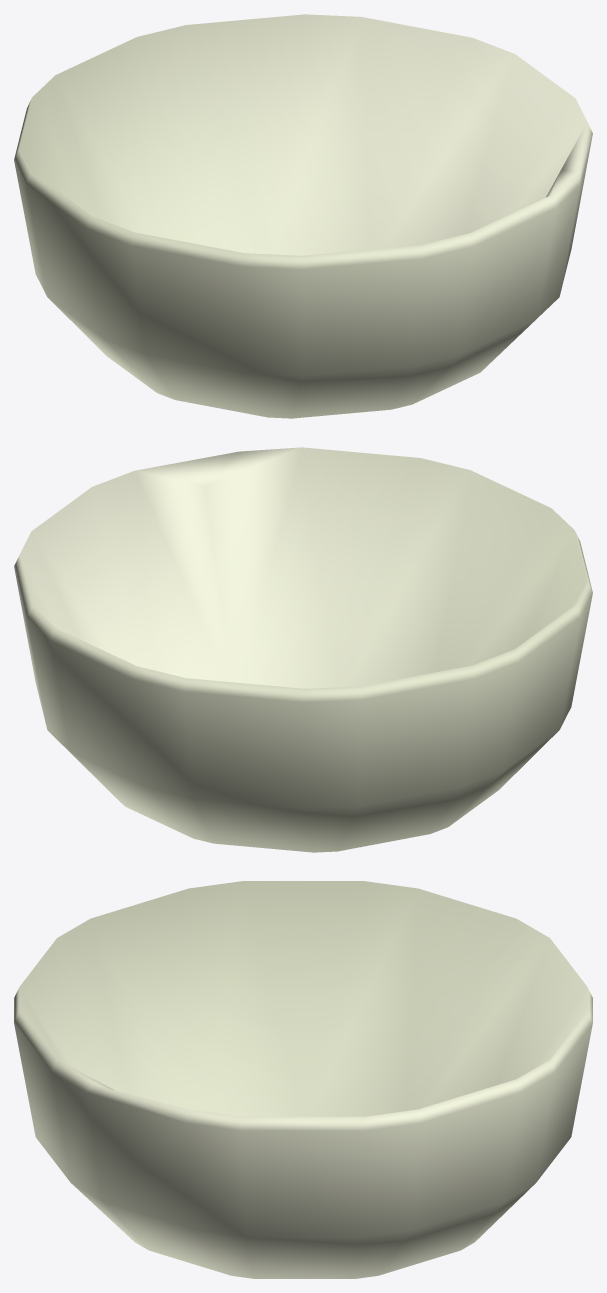
Rendered from Bowl_E.FBX.
The picture shows the model from 3 angles, top to bottom: view 1: azimuth 30°, elevation 25°; view 2: azimuth 150°, elevation 25°; view 3: azimuth 270°, elevation 25°; orthographic projection.
Parts seen in each view (by area): view 1: Bowl; view 2: Bowl; view 3: Bowl.
Boxes of the visible parts, x1,y1,x2,y2 form: Bowl: (14,14,592,418); Bowl: (14,447,592,852); Bowl: (14,881,592,1278).
Size of the model in its own units: 74.62 by 28.7 by 75.96.
